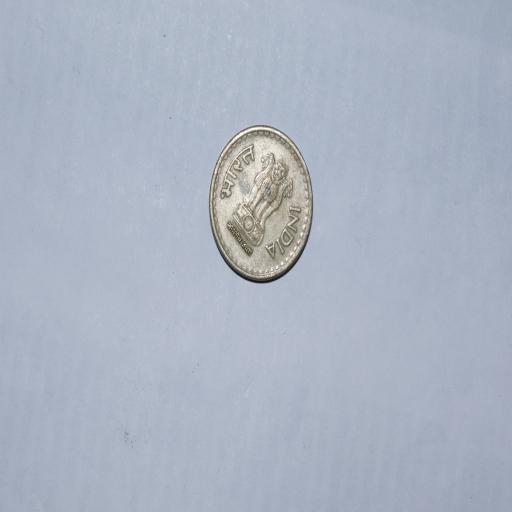rupee5: (204, 123, 313, 287)
